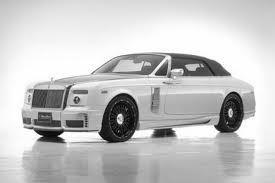car: (23, 53, 258, 144)
